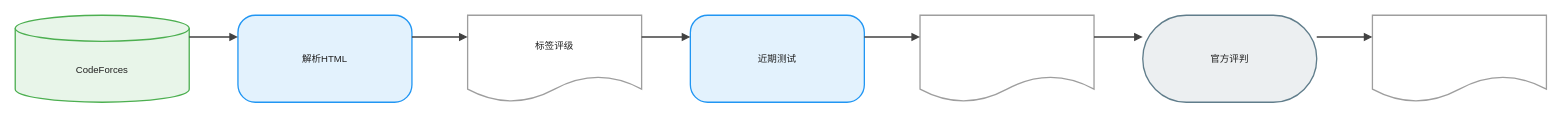
Some shapes in this 1563 by 118 pixel diagram are drawn without their labels. Each missing label, with the centre of its shape:
"Elo评分" goes at point (1459, 58).
"模型代码" goes at point (1006, 58).
